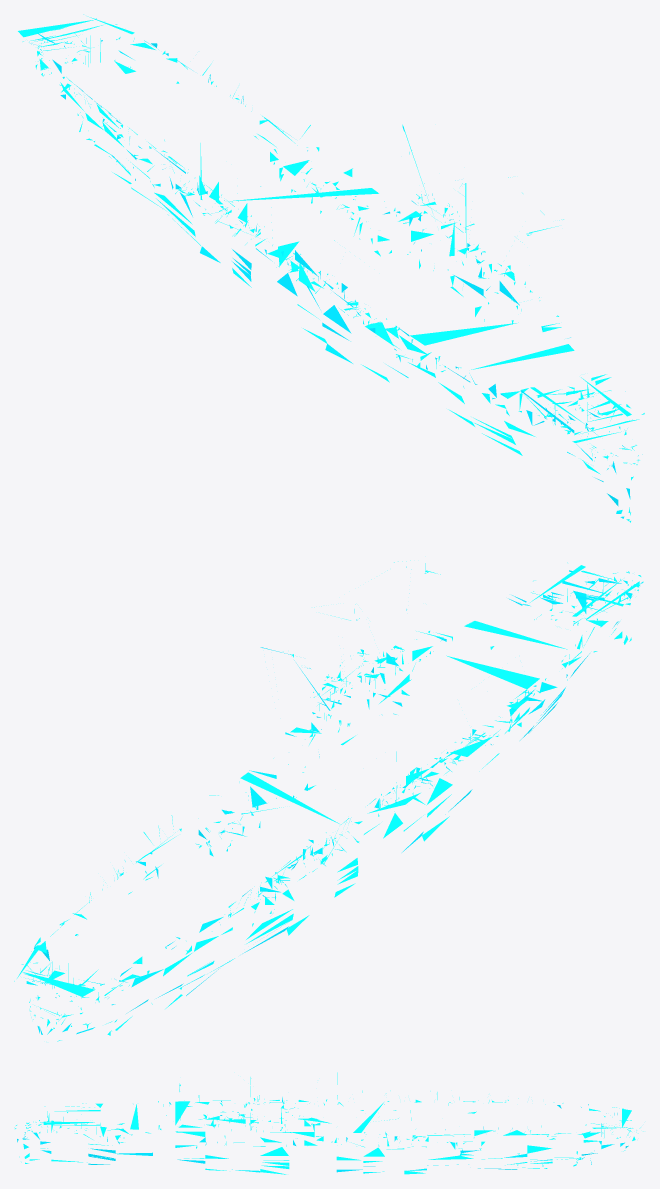
File: Erich_Loewenhardt.glb
The picture shows the model from 3 angles, top to bottom: view 1: azimuth 30°, elevation 25°; view 2: azimuth 150°, elevation 25°; view 3: azimuth 270°, elevation 25°; orthographic projection. The views are drawn at different scales.
Bounding box in the file's own units: 3.05 × 3.09 × 17.35.
